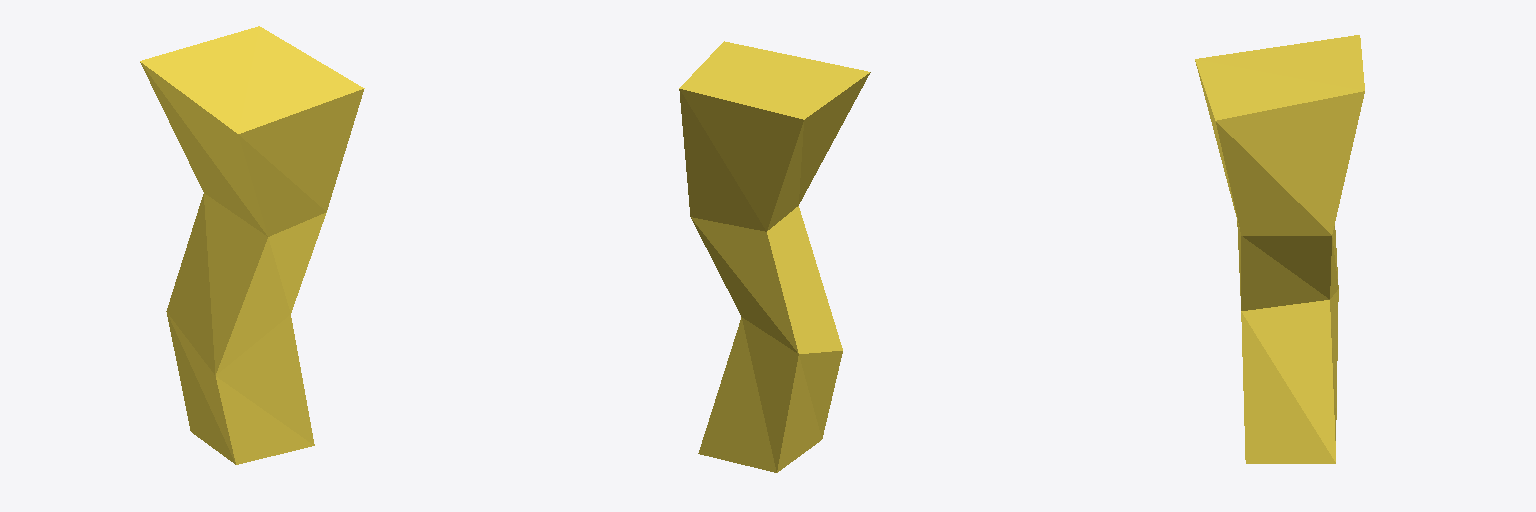
The model's file is Stem3.obj.
3 views of the same model, side by side, from view 1: azimuth 30°, elevation 25°; view 2: azimuth 150°, elevation 25°; view 3: azimuth 270°, elevation 25° (orthographic).
Parts seen in each view (by area): view 1: Stem3; view 2: Stem3; view 3: Stem3.
Boxes of the visible parts, x1,y1,x2,y2 form: Stem3: [140, 26, 364, 464]; Stem3: [679, 41, 870, 472]; Stem3: [1195, 35, 1364, 463].
Size of the model in its own units: 0.097 by 0.2276 by 0.0938.